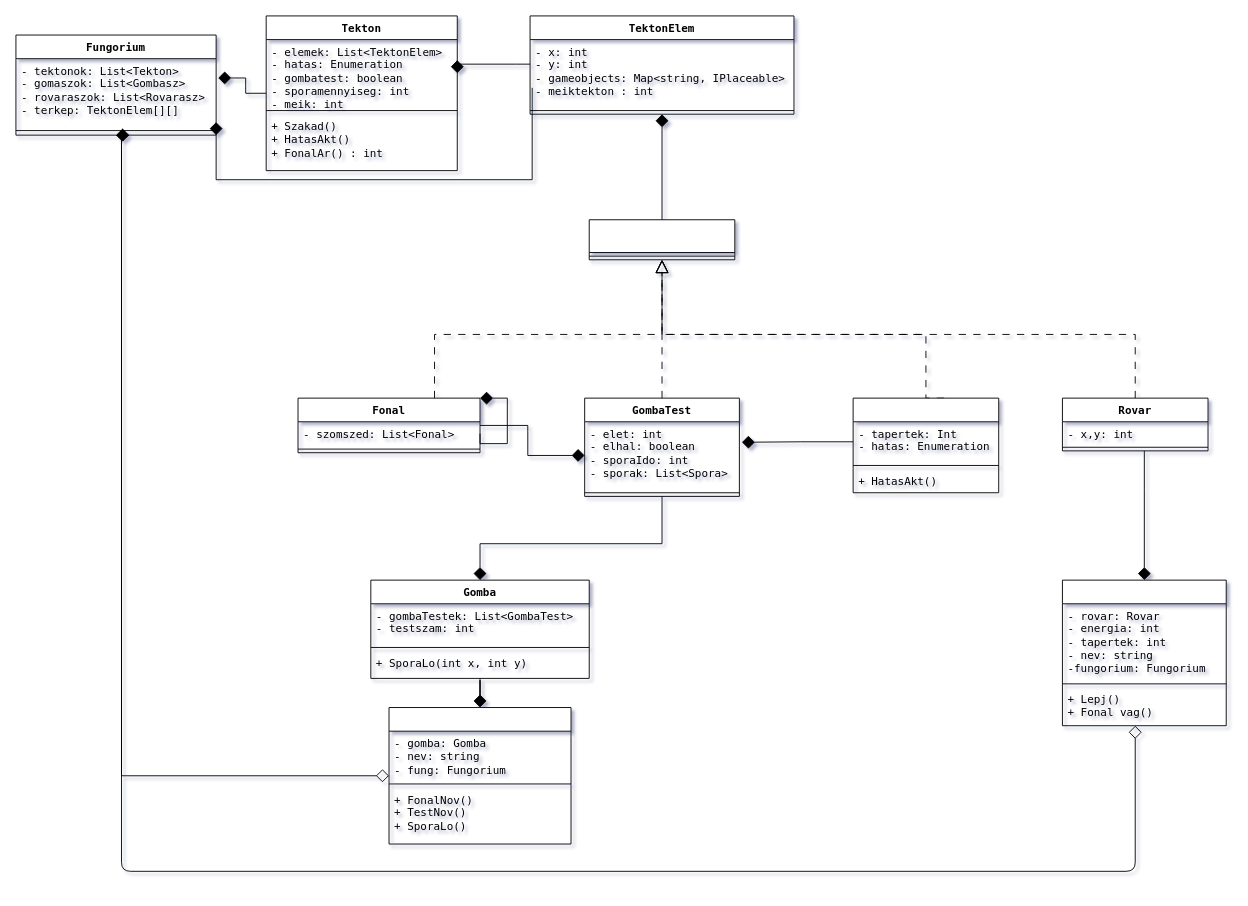
Some shapes in this 1248 by 906 pixel diagram are drawn without their labels. The shapes that lost their labels are listed below. From the top down, each one's box as (x1, y1, x2, y2) in pixels, then its label:
(588, 219, 735, 260): <<interface>> IPlaceable
(852, 397, 999, 493): Spora
(1062, 579, 1226, 726): Rovarasz
(388, 707, 571, 844): Gombasz
